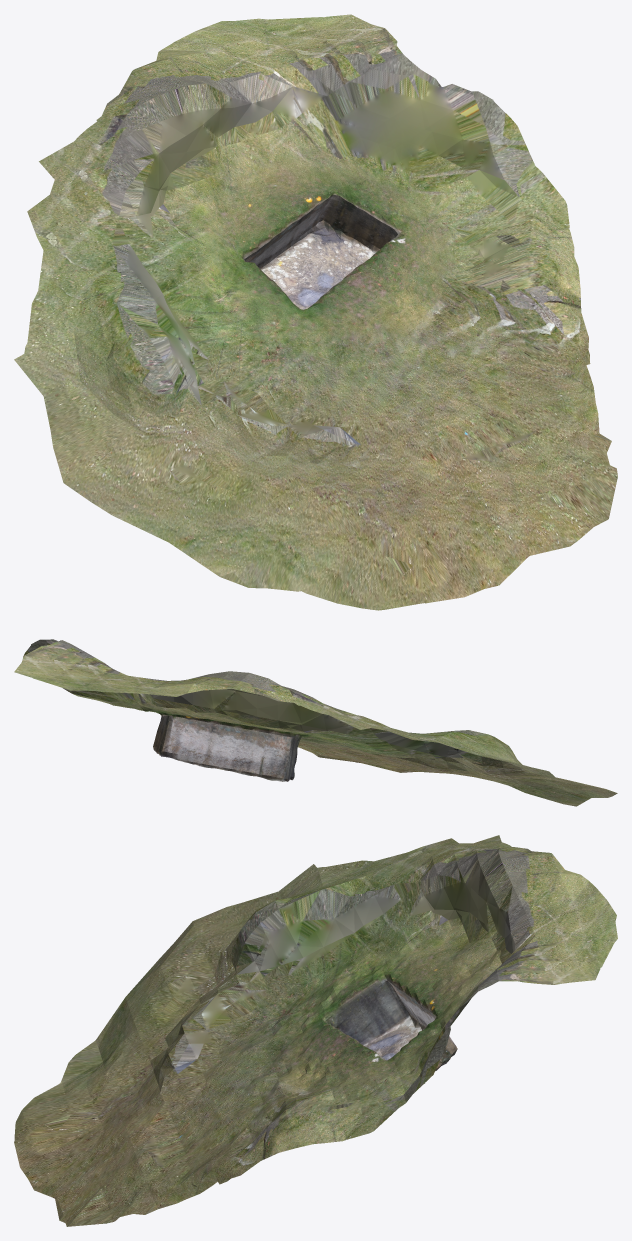
The model's file is Goettingen stone monumnet 1.fbx.
The picture shows the model from 3 angles, top to bottom: view 1: azimuth 30°, elevation 25°; view 2: azimuth 150°, elevation 25°; view 3: azimuth 270°, elevation 25°; orthographic projection. The views are drawn at different scales.
Visible parts, largest first — view 1: Model; view 2: Model; view 3: Model.
Part boxes in pixels (bbox=[...]): Model: bbox=[14, 14, 617, 610]; Model: bbox=[14, 639, 617, 806]; Model: bbox=[14, 835, 617, 1226].
Bounding box in the file's own units: 19.96 × 10.44 × 19.01.
